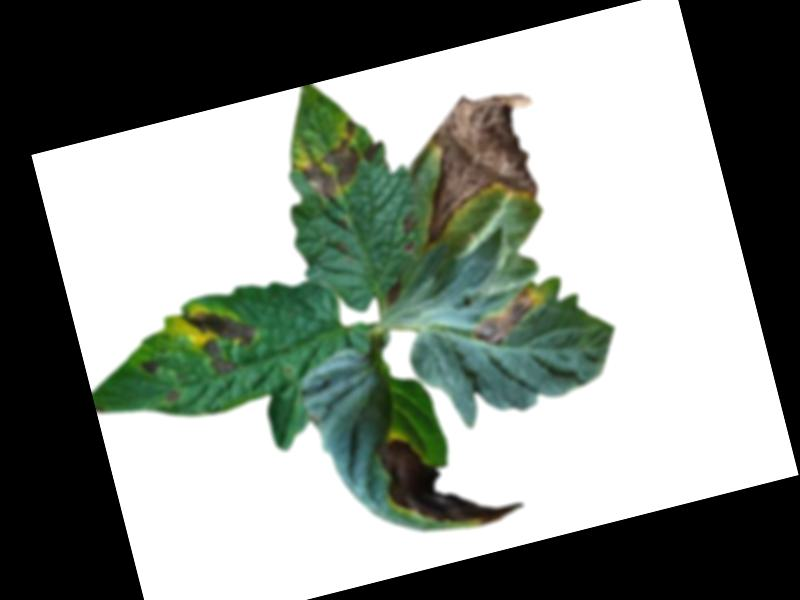Early_blight: (393, 80, 560, 251), (374, 412, 528, 548), (182, 297, 266, 384), (293, 118, 373, 205), (466, 279, 554, 350), (395, 207, 426, 255), (380, 276, 409, 308), (135, 354, 162, 381), (361, 138, 386, 167), (166, 389, 182, 404)
